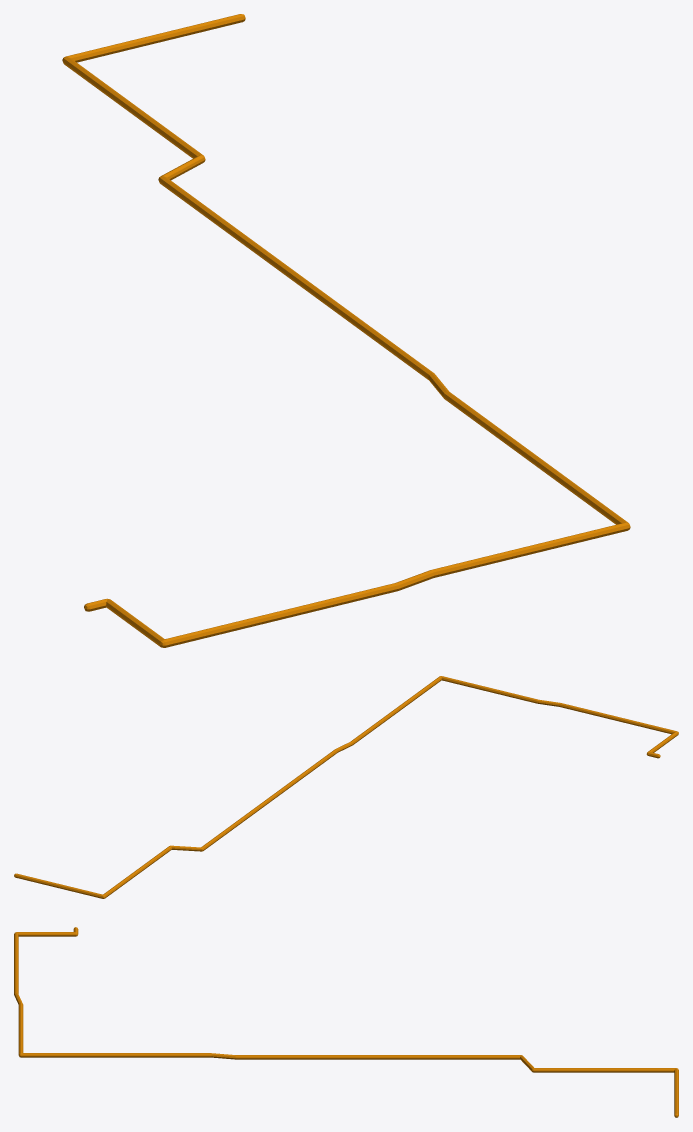
The picture shows the model from 3 angles, top to bottom: view 1: azimuth 30°, elevation 25°; view 2: azimuth 150°, elevation 25°; view 3: azimuth 270°, elevation 25°; orthographic projection. The views are drawn at different scales.
Bounding box in the file's own units: 1871 × 20 × 2793.
